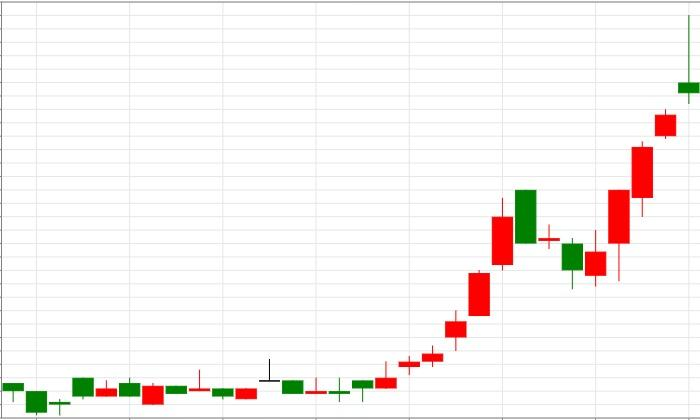three_white_soldiers_rise: (514, 141, 653, 289)
